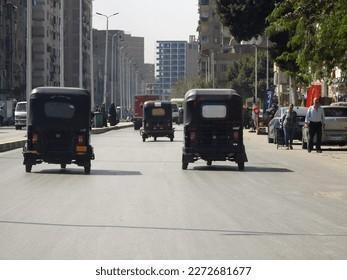keke: (27, 86, 96, 177), (180, 88, 246, 175), (139, 99, 175, 146)
